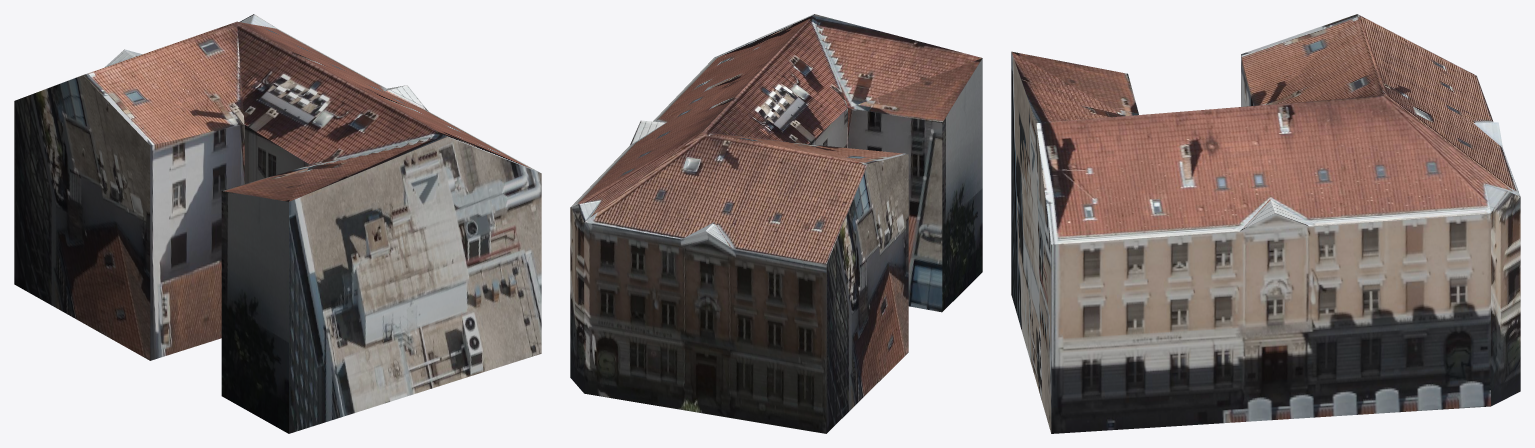
3 views of the same model, side by side, from view 1: azimuth 30°, elevation 25°; view 2: azimuth 150°, elevation 25°; view 3: azimuth 270°, elevation 25° (orthographic). The views are drawn at different scales.
Visible parts, largest first — view 1: Z_UP; view 2: Z_UP; view 3: Z_UP.
Boxes of the visible parts, bbox=[...] form: Z_UP: bbox=[14, 14, 541, 433]; Z_UP: bbox=[570, 14, 982, 433]; Z_UP: bbox=[1011, 14, 1520, 433].
Size of the model in its own units: 26.52 by 19.63 by 34.36.
2 materials, 1 textured.
